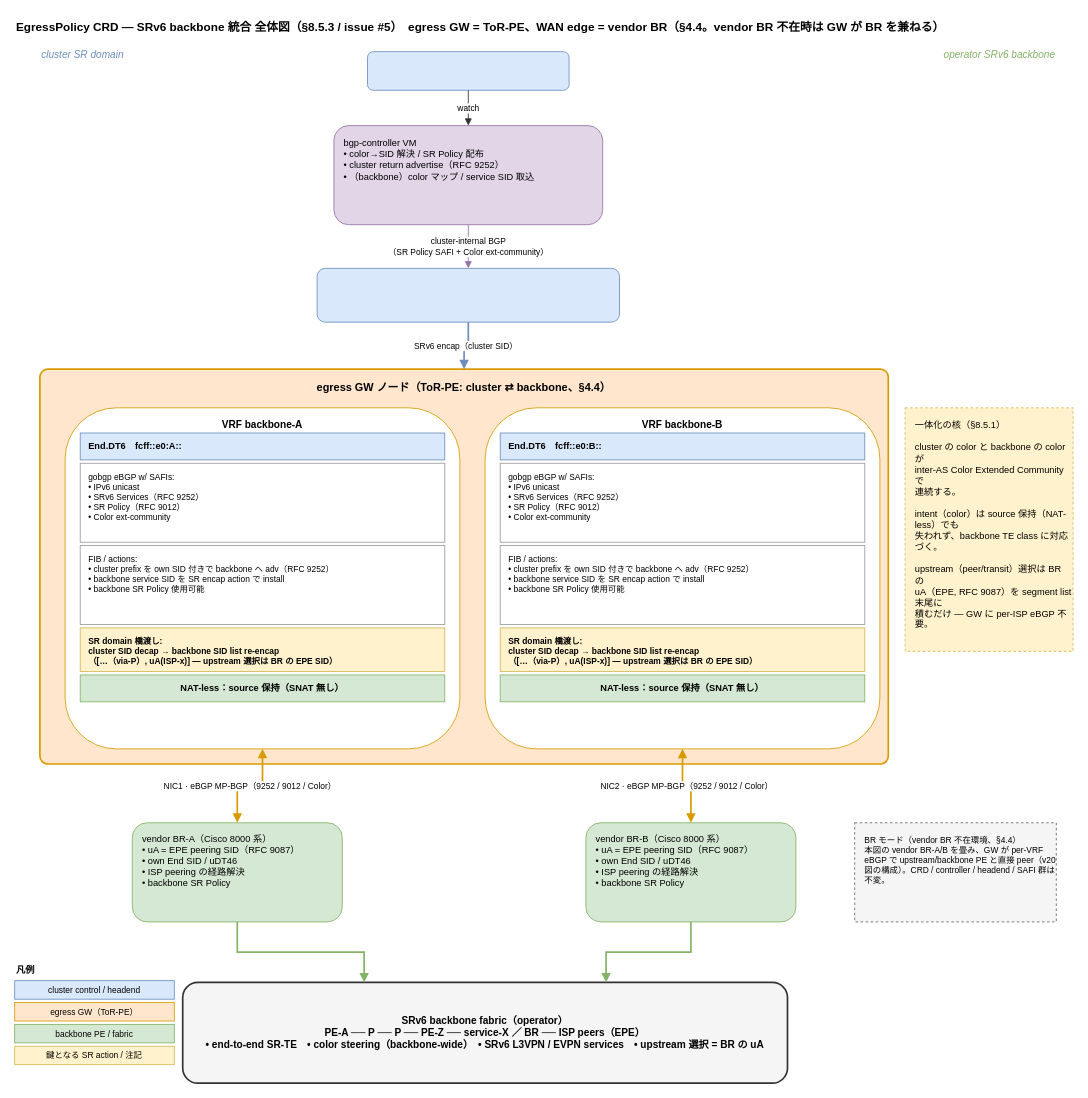
Some shapes in this 1088 by 1098 pixel diagram are drawn without their labels. Each missing label, with the centre of its shape:
EgressPolicy（CRD）: the point at 468,70
headend = pod ノード color / dst で SR encap: the point at 468,295
